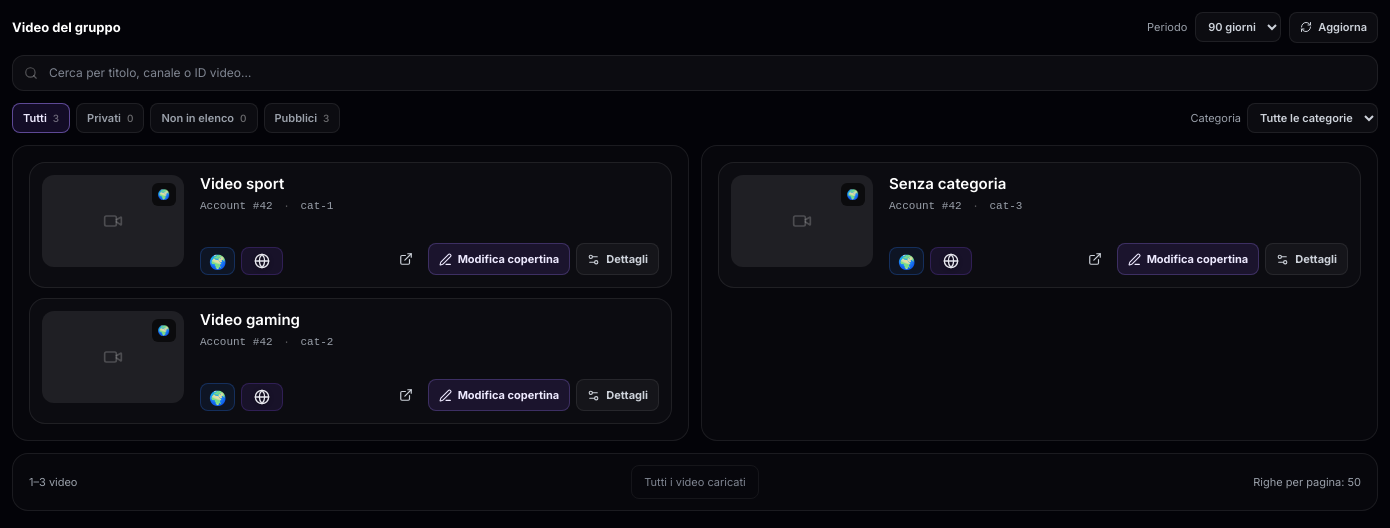
Scenario: GroupYouTubeVideos › filters the grid by category, resolving labels from the canonical snapshot
The width and height of the screenshot is (1390, 528).
Check: the text "Video sport" is shown, box [200,174,284,193]
Check: the text "Video gaming" is shown, box [200,310,300,329]
Select "Sport" in the dropdown with test id "group-videos-category" at {"x": 1312, "y": 118}, box [1247,103,1378,133]
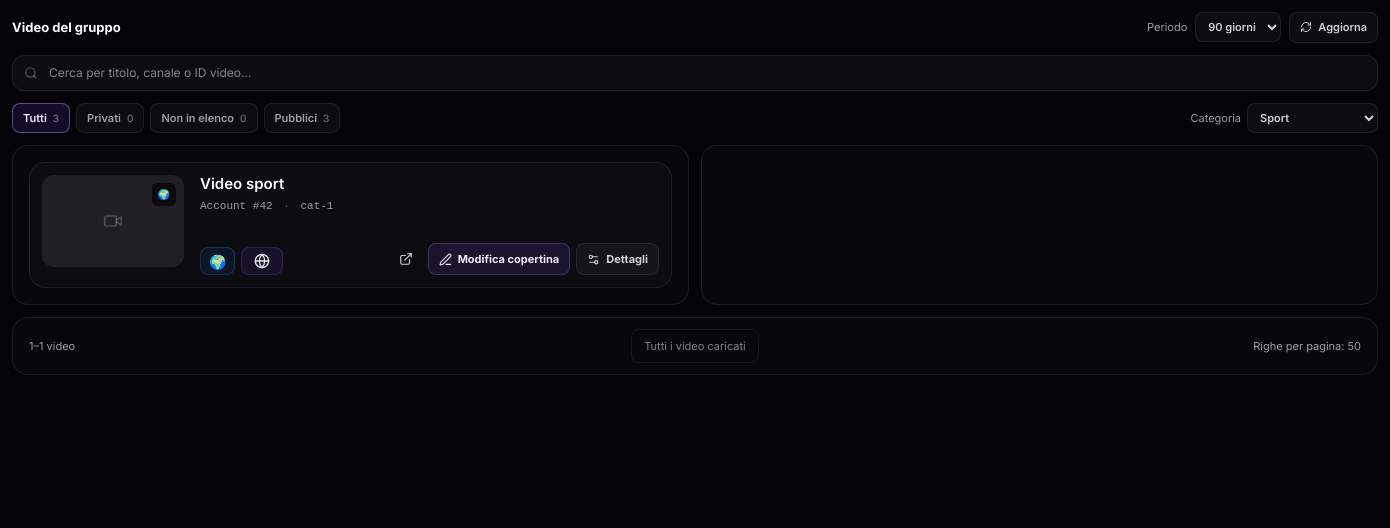
Check: the text "Video sport" is shown, box [200,174,284,193]
Check: the button "Video gaming" is gone
Check: the button "Senza categoria" is gone
# category_id without category_title resolves to the canonical label.
Select "Gaming" in the dropdown with test id "group-videos-category" at {"x": 1312, "y": 118}, box [1247,103,1378,133]
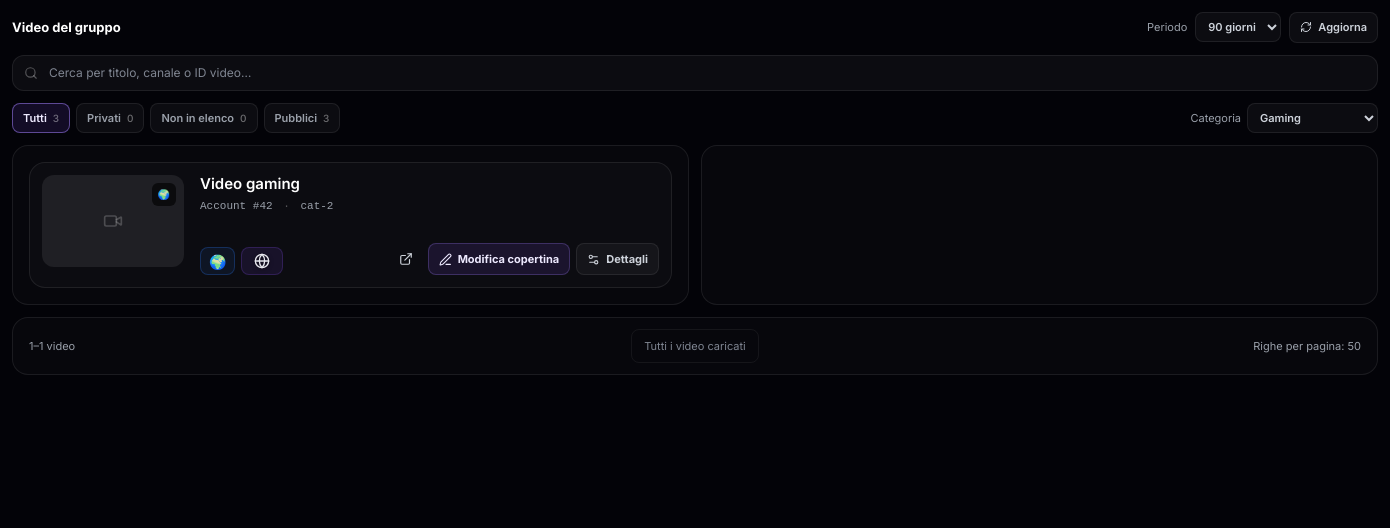
Check: the text "Video gaming" is shown, box [200,174,300,193]
Check: the button "Video sport" is gone
# Back to all categories.
Select "Tutte le categorie" in the dropdown with test id "group-videos-category" at {"x": 1312, "y": 118}, box [1247,103,1378,133]
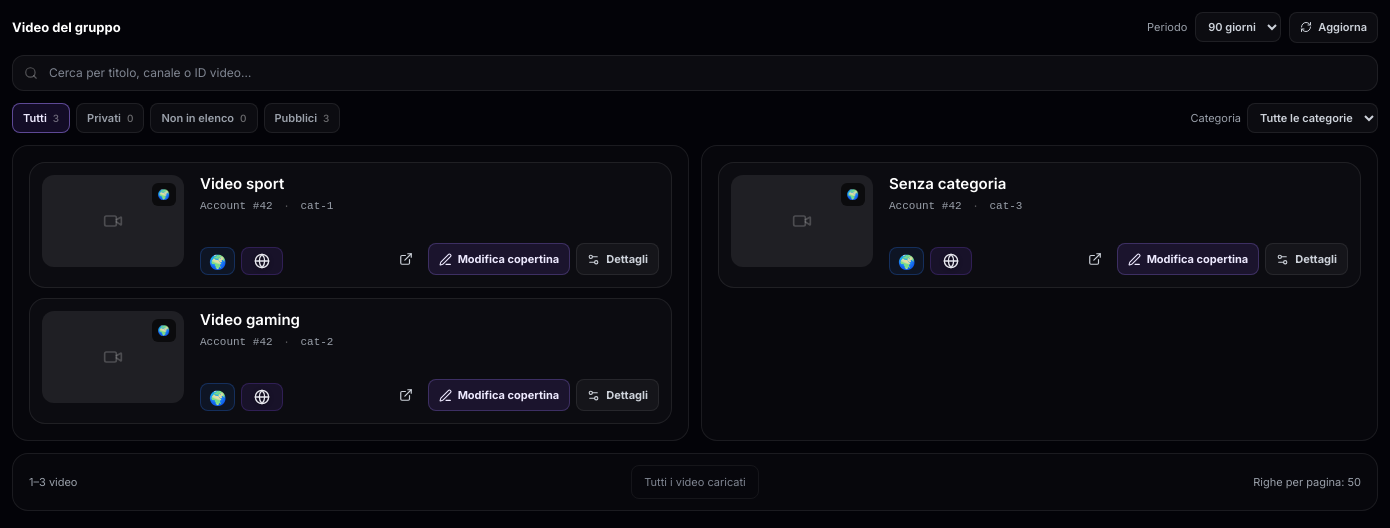
Check: the text "Senza categoria" is shown, box [889,174,1006,193]
